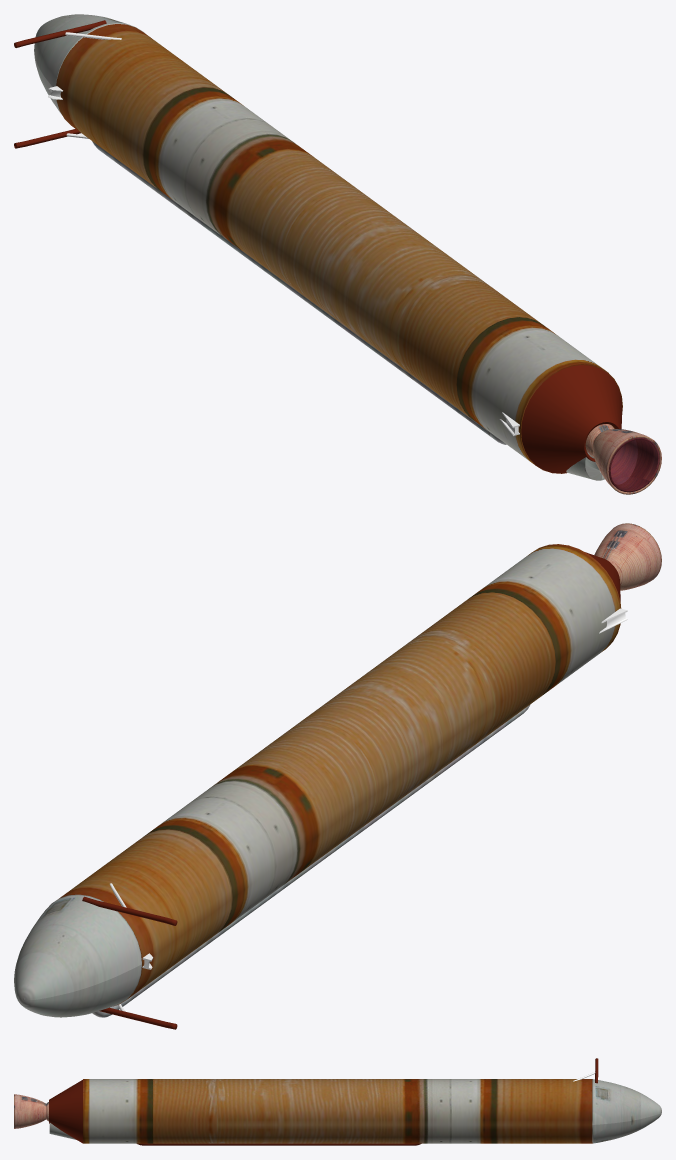
File: deltaivbooster_2.obj
3 views of the same model, one above another, from view 1: azimuth 30°, elevation 25°; view 2: azimuth 150°, elevation 25°; view 3: azimuth 270°, elevation 25° (orthographic). The views are drawn at different scales.
Parts seen in each view (by area): view 1: group12, group2, group10, group4, group7, group3; view 2: group12, group10, group3, group11, group7; view 3: group12, group10, group2, group3, group11, group9, group5.
Part boxes in pixels (x1=…): group12: x1=56, y1=24, x2=622, y2=473; group2: x1=521, y1=365, x2=622, y2=473; group10: x1=34, y1=14, x2=144, y2=86; group4: x1=608, y1=437, x2=659, y2=492; group7: x1=92, y1=141, x2=490, y2=436; group3: x1=585, y1=424, x2=661, y2=494; group12: x1=59, y1=544, x2=621, y2=1006; group10: x1=14, y1=894, x2=141, y2=999; group3: x1=594, y1=523, x2=661, y2=590; group11: x1=14, y1=964, x2=141, y2=1017; group7: x1=92, y1=714, x2=518, y2=1017; group12: x1=83, y1=1079, x2=592, y2=1143; group10: x1=592, y1=1079, x2=661, y2=1124; group2: x1=49, y1=1080, x2=82, y2=1143; group3: x1=14, y1=1094, x2=48, y2=1128; group11: x1=592, y1=1112, x2=661, y2=1143; group9: x1=149, y1=1143, x2=421, y2=1145; group5: x1=49, y1=1122, x2=76, y2=1139.
Bounding box in the file's own units: 6.94 × 5.67 × 51.04.
Materials: 8 (5 with a texture image).
